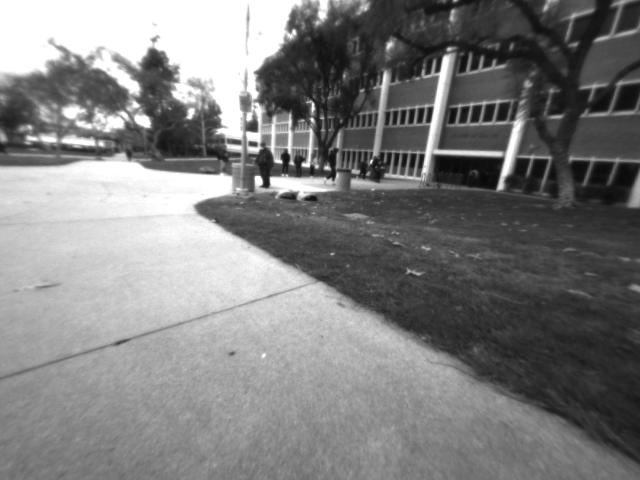trashcan: (230, 156, 257, 196), (332, 163, 354, 196)
